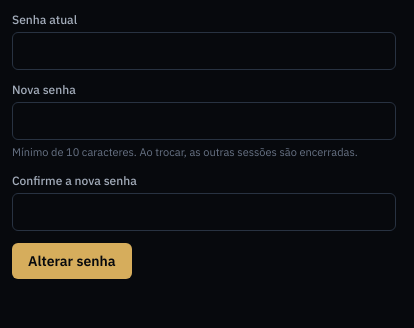
FormSenha › envia e confirma o sucesso
Type "antiga-123" into the password field labelled "Senha atual" at (204, 51), box [12,32,396,70]
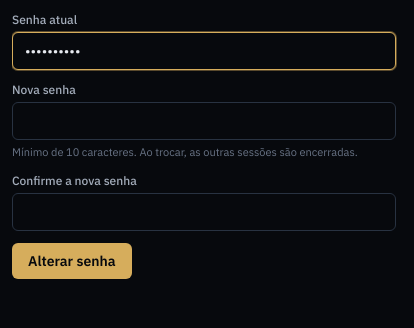
Type "nova-senha-forte" into the password field labelled "Nova senha" at (204, 121), box [12,102,396,140]
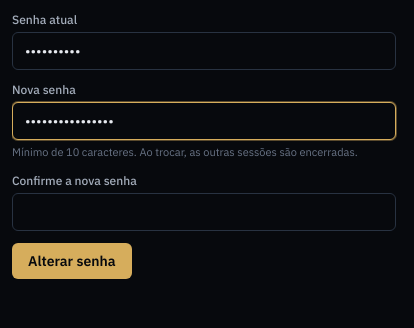
Type "nova-senha-forte" into the password field labelled "Confirme a nova senha" at (204, 212), box [12,192,396,230]
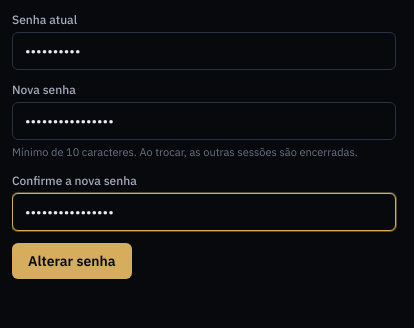
Click the button "Alterar senha" at (72, 260), box [12,242,132,278]
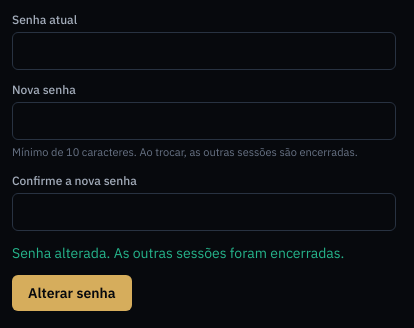
expect the message reads "Senha alterada. As outras sessões foram encerradas.": met, box [12,244,344,262]
